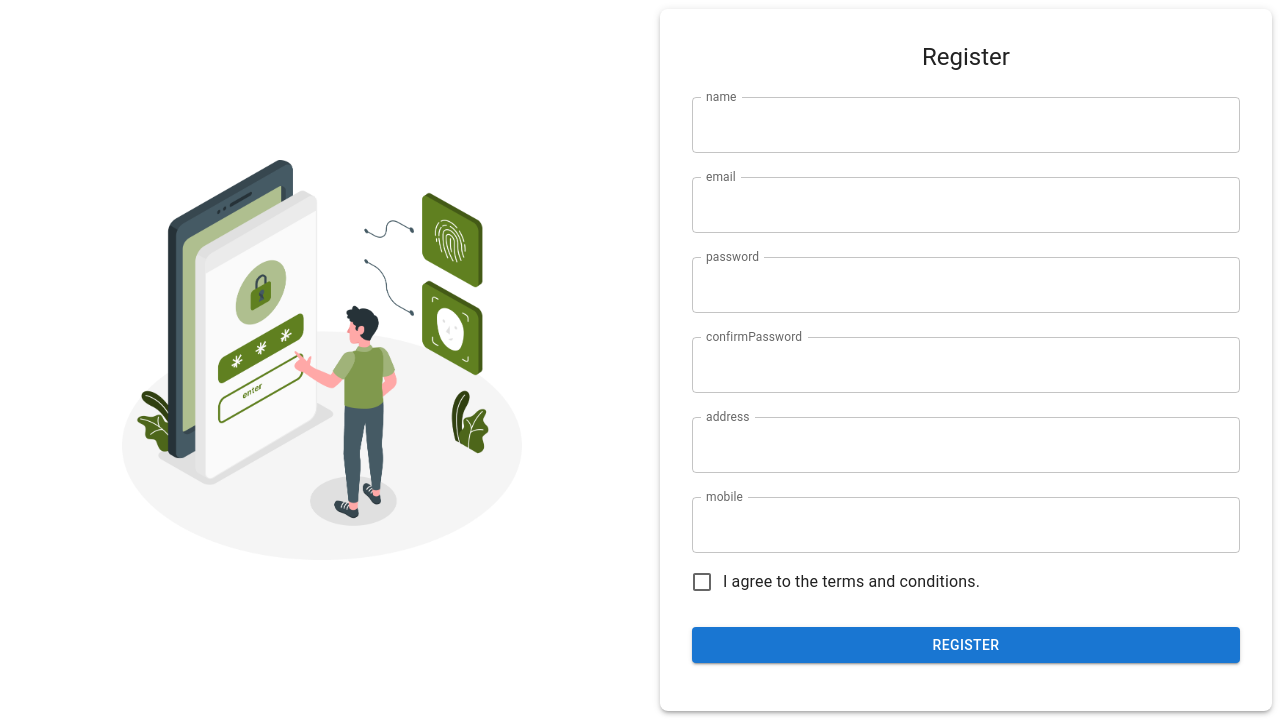
Test: RegisterForm › should render a warning message, if a mandatory field is not filled
In the field labelled "email": [966, 205] box x1=692 y1=177 x2=1240 y2=233, type "joon@gmail.com"
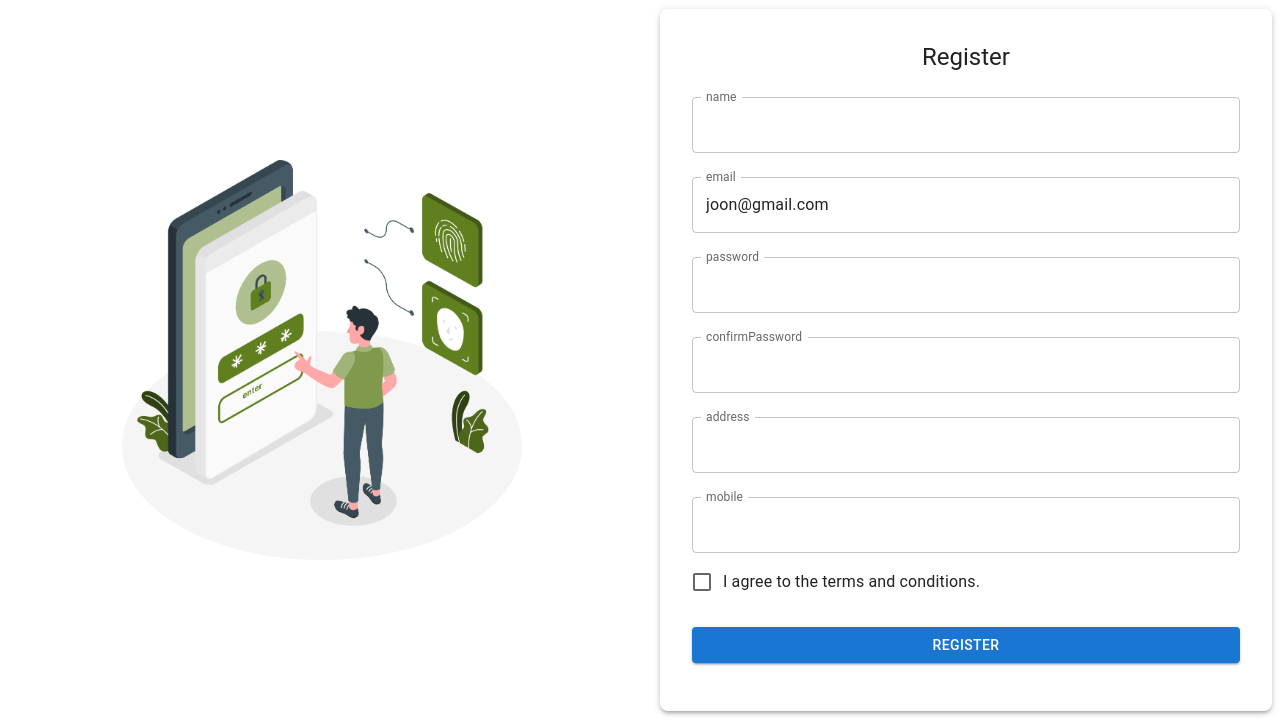
In the password field labelled "password": [966, 285] box x1=692 y1=257 x2=1240 y2=313, type "password123"
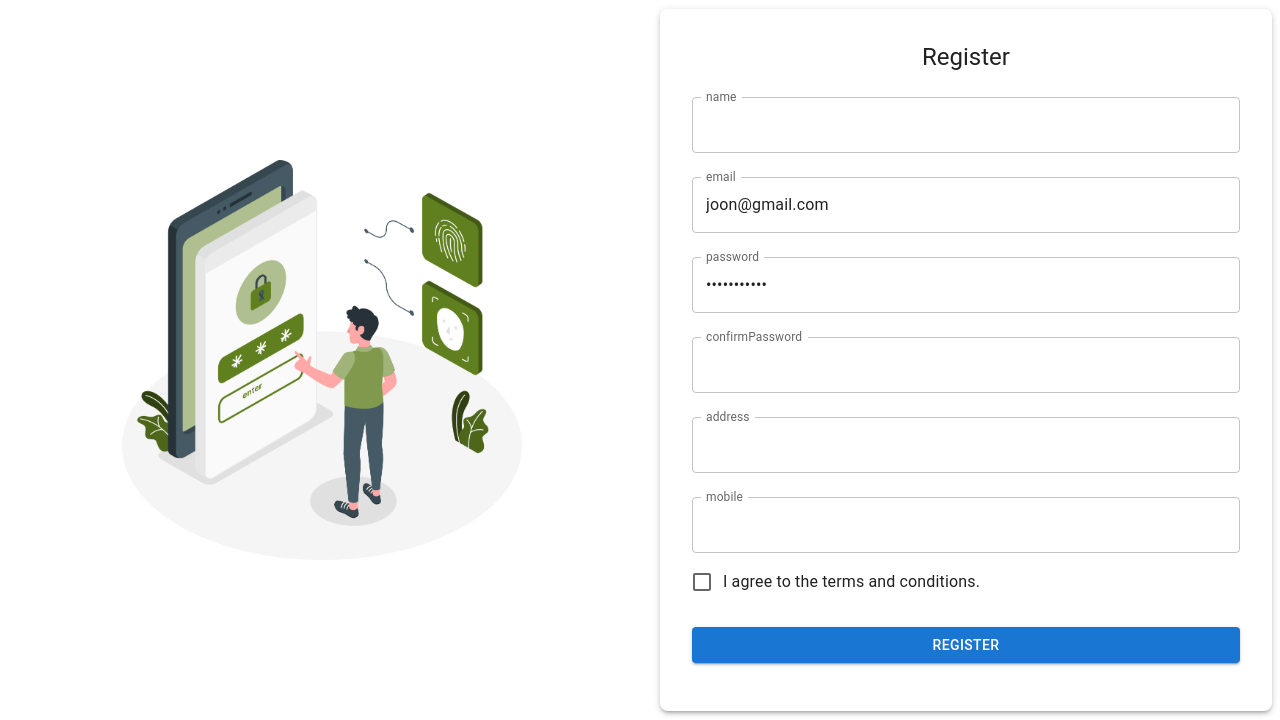
In the password field labelled "confirmPassword": [966, 365] box x1=692 y1=337 x2=1240 y2=393, type "password123"
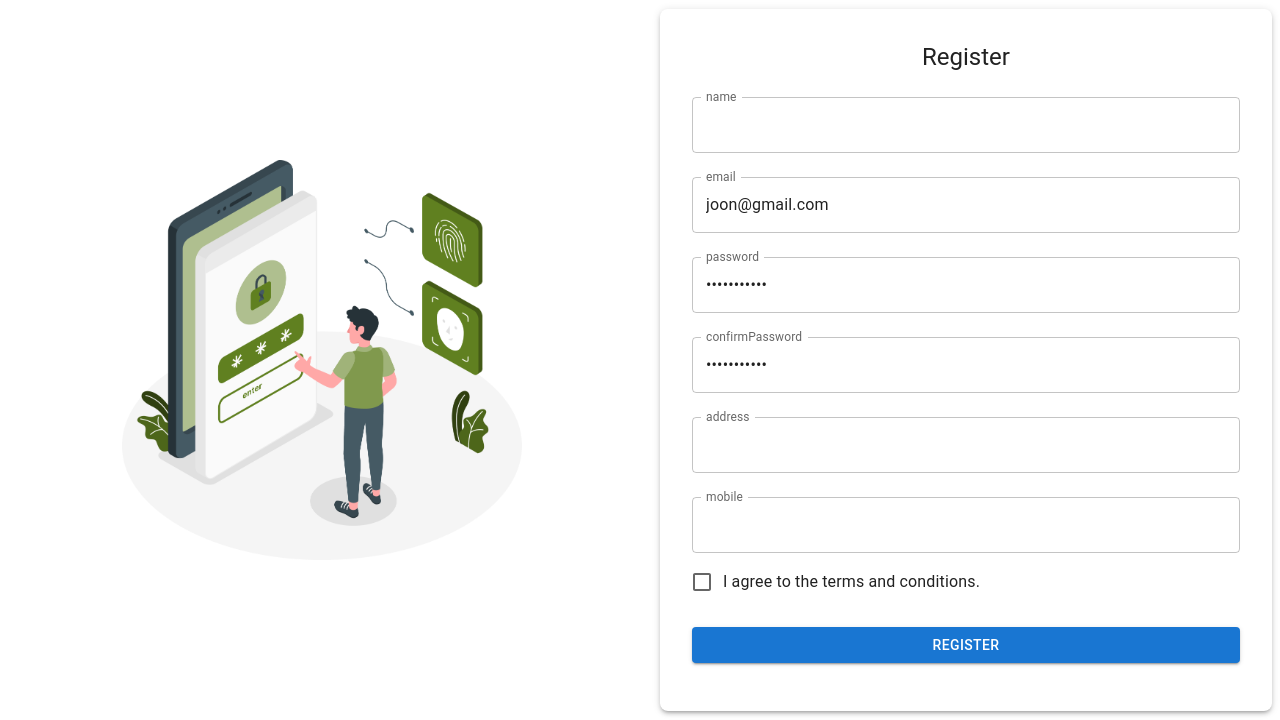
Click the checkbox: [835, 582] box x1=690 y1=570 x2=980 y2=594
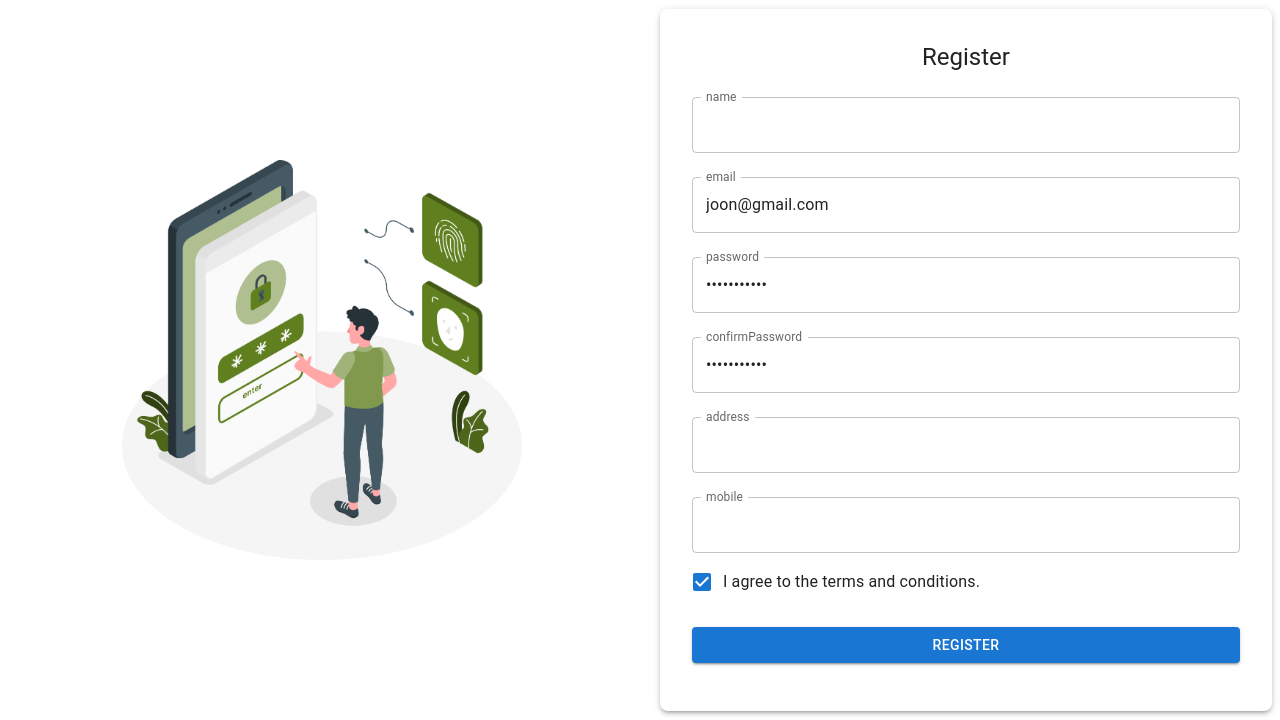
Click the button "Register": [966, 645] box x1=692 y1=627 x2=1240 y2=664
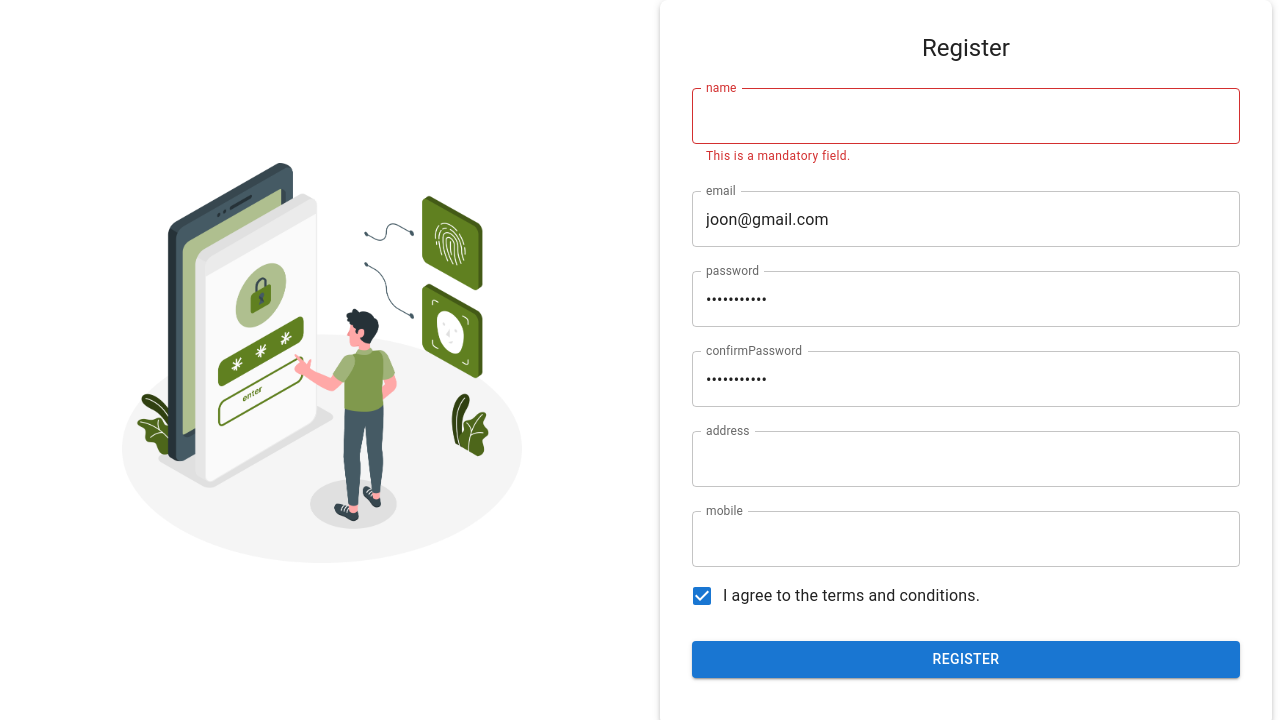
Now the text "This is a mandatory field." is shown, box x1=706 y1=149 x2=851 y2=163
